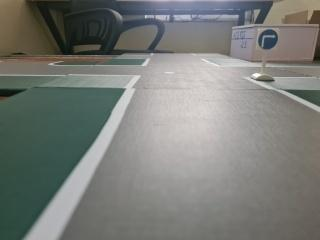right: (256, 24, 280, 55)
